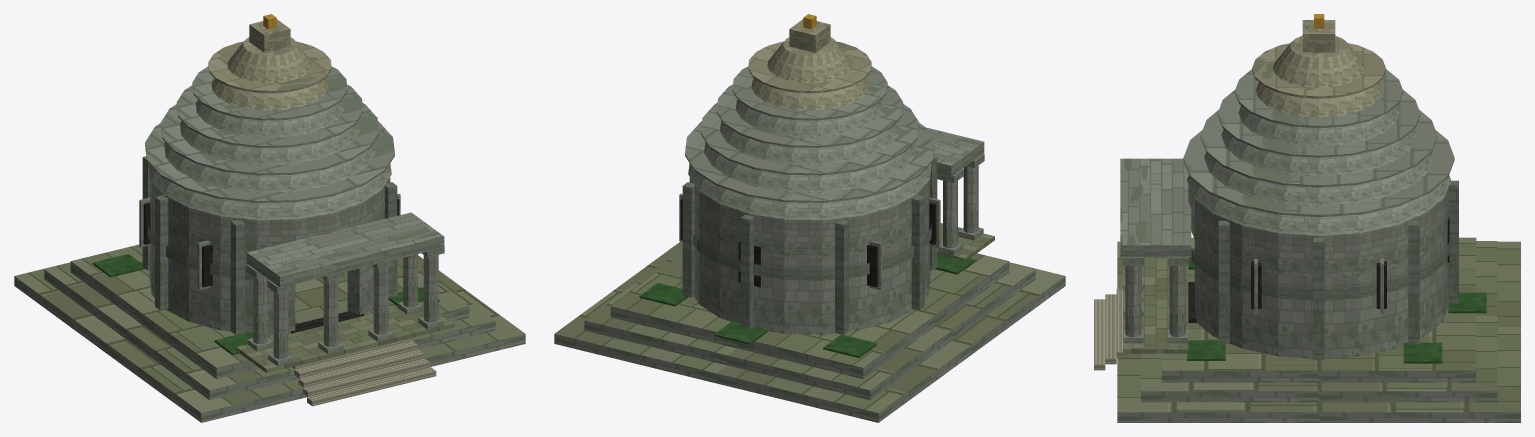
File: temple.glb
The picture shows the model from 3 angles, left to right: view 1: azimuth 30°, elevation 25°; view 2: azimuth 150°, elevation 25°; view 3: azimuth 270°, elevation 25°; orthographic projection. The views are drawn at different scales.
Visible parts, largest first — view 1: ae_jungle_dome_temple_lod0; view 2: ae_jungle_dome_temple_lod0; view 3: ae_jungle_dome_temple_lod0.
Boxes of the visible parts, x1,y1,x2,y2 form: ae_jungle_dome_temple_lod0: (14,14,525,422); ae_jungle_dome_temple_lod0: (554,14,1065,422); ae_jungle_dome_temple_lod0: (1094,14,1520,422).
Bounding box in the file's own units: 10.99 × 9.66 × 11.62.
1 material, 1 textured.
